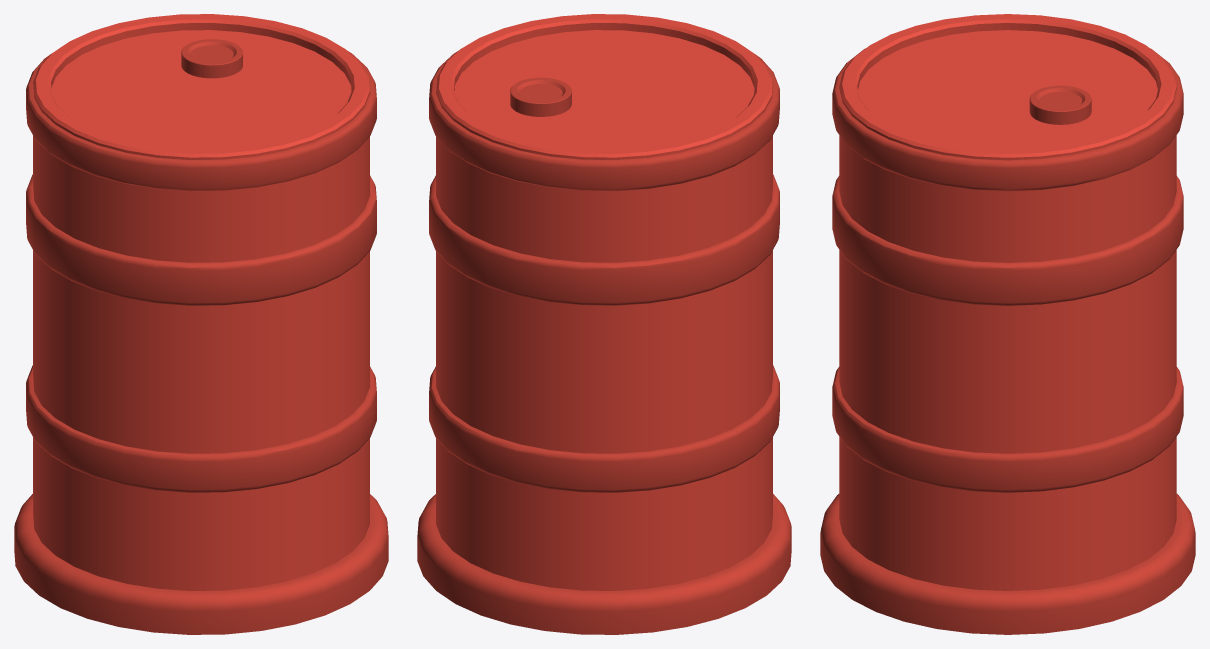
Rendered from obstacle-barrel.fbx.
The picture shows the model from 3 angles, left to right: view 1: azimuth 30°, elevation 25°; view 2: azimuth 150°, elevation 25°; view 3: azimuth 270°, elevation 25°; orthographic projection.
Parts seen in each view (by area): view 1: obstacle-barrel; view 2: obstacle-barrel; view 3: obstacle-barrel.
Boxes of the visible parts, box(x1,y1,x2,y2) form: obstacle-barrel: box(14, 14, 388, 634); obstacle-barrel: box(417, 14, 791, 634); obstacle-barrel: box(820, 14, 1195, 634).
Size of the model in its own units: 1.05 by 1.47 by 1.05.
